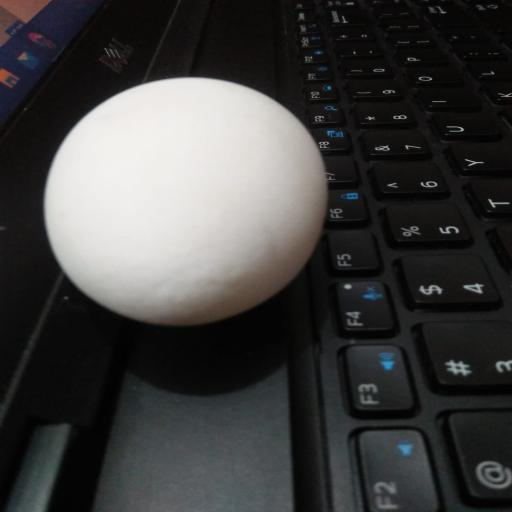telur: (40, 75, 328, 325)
